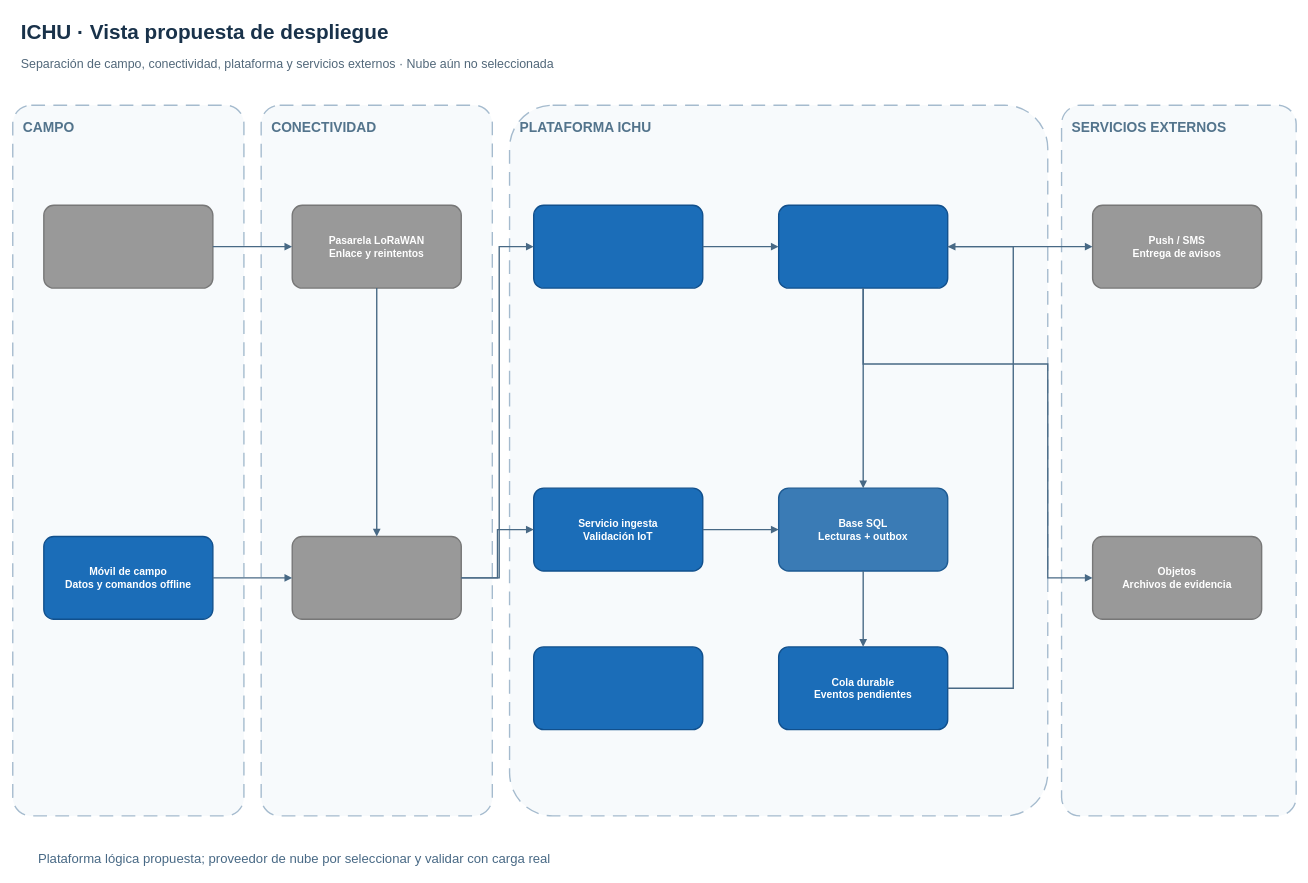
This 1308x883 diagram has some shape labels left out. Here are the shapes that lost their labels. From the top down, the centre of each, then its label:
At [128,246]: "Collar IoT Sensor + búfer local".
At [618,246]: "Punto de entrada HTTPS + control de acceso".
At [863,246]: "API modular Inventario, alertas y salud".
At [376,577]: "Red rural / Internet Enlace intermitente".
At [618,688]: "Observabilidad Métricas y correlación".
